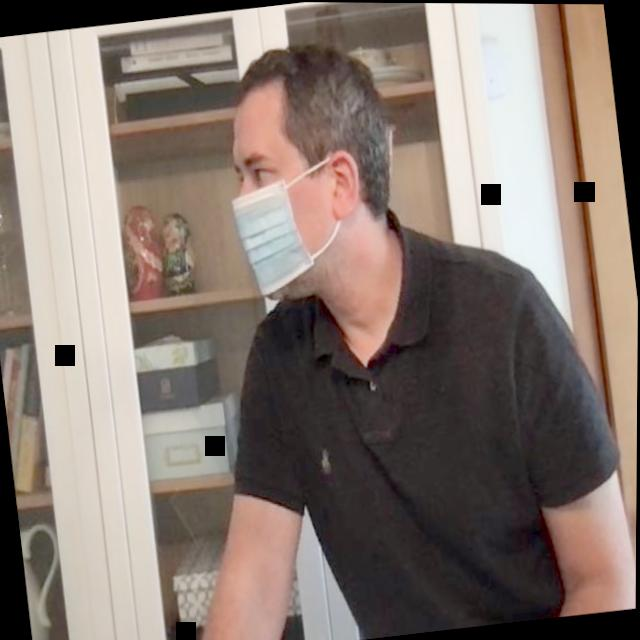Mask: (212, 32, 411, 309)
